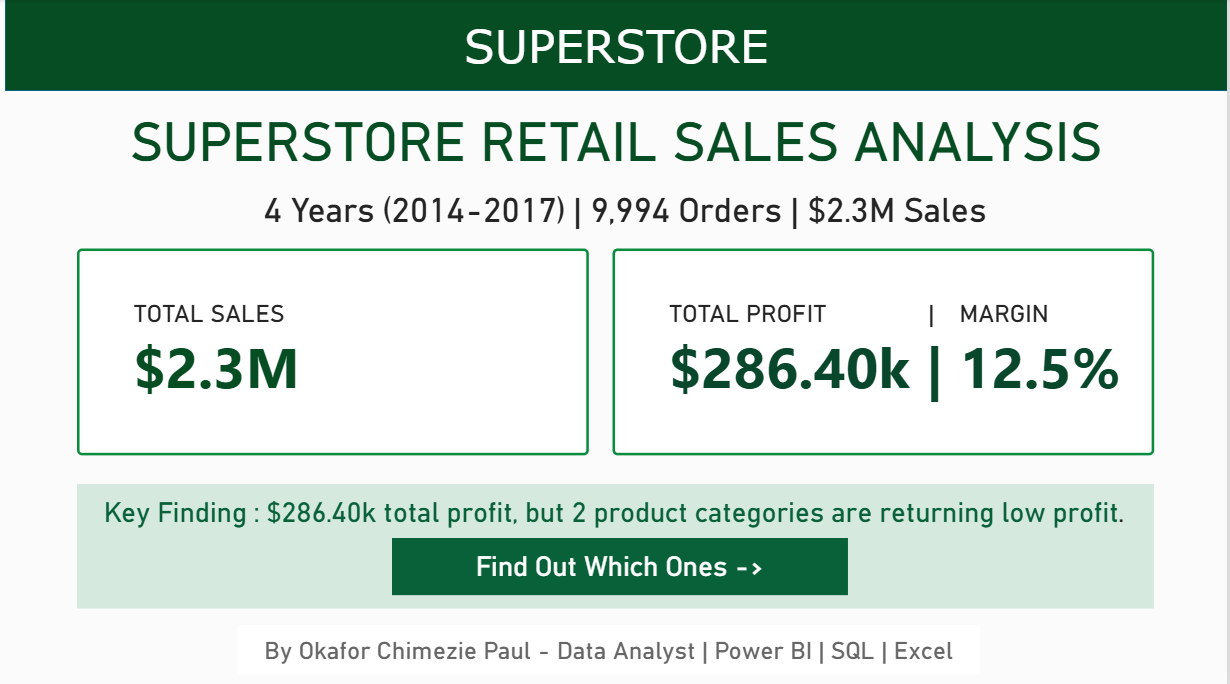

What the dashboard file says about the page in this screenshot:
{"tool":"powerbi","page":{"name":"HOME","canvas":[1920,1080],"ordinal":0},"visuals":[{"type":"shape","box":[9.4,0,1910.8,145.4],"z":0},{"type":"textbox","box":[9.4,173.5,1910.8,110.2],"z":1},{"type":"textbox","box":[9.4,300.1,1910.8,72.7],"z":9},{"type":"textbox","box":[121.9,391.5,800,323.5],"z":10},{"type":"textbox","box":[958.9,391.5,846.4,323.5],"z":11},{"type":"textbox","box":[121.9,759.6,1683.3,194.6],"z":12},{"type":"actionButton","box":[614.3,844,712.7,89.1],"z":13},{"type":"shape","box":[398.6,989.4,1160.5,63.3],"z":14}]}

Visuals, with their boxes in screenshot pixels (x1, y1, x2, y2), scaled from the page's 1920x1080 canvas onto the 1230x684 screenshot:
shape: {"left": 6, "top": 0, "right": 1229, "bottom": 92}
textbox: {"left": 6, "top": 110, "right": 1229, "bottom": 180}
textbox: {"left": 6, "top": 190, "right": 1229, "bottom": 236}
textbox: {"left": 78, "top": 248, "right": 591, "bottom": 453}
textbox: {"left": 614, "top": 248, "right": 1157, "bottom": 453}
textbox: {"left": 78, "top": 481, "right": 1156, "bottom": 604}
actionButton: {"left": 394, "top": 535, "right": 850, "bottom": 591}
shape: {"left": 255, "top": 627, "right": 999, "bottom": 667}
